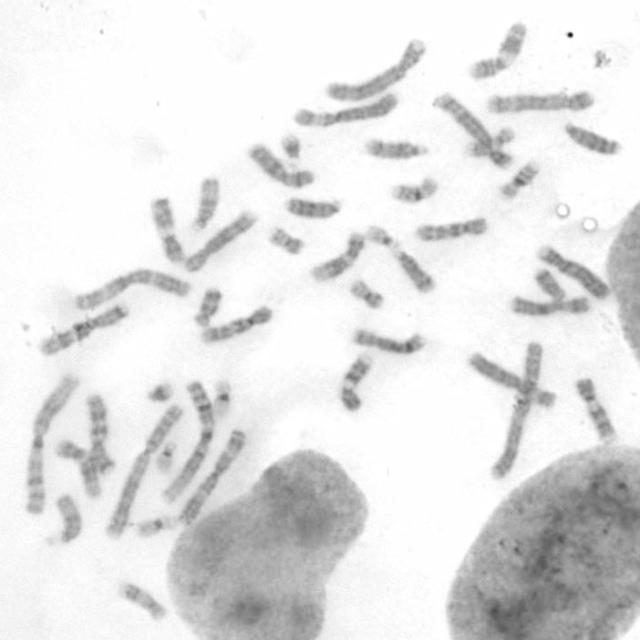A1: (19, 368, 82, 516), (156, 376, 216, 506)
A2: (101, 399, 185, 540), (483, 336, 544, 482)
A3: (177, 425, 247, 524), (69, 262, 195, 312)
B4: (322, 34, 428, 102), (532, 240, 612, 301)
B5: (430, 87, 516, 171), (482, 85, 597, 116)
C10: (196, 301, 276, 346), (411, 213, 490, 244)
C11: (463, 17, 530, 82), (147, 192, 186, 266)
C12: (306, 227, 368, 284), (51, 436, 104, 499)
C6: (463, 348, 560, 410), (289, 88, 399, 128)
C7: (35, 298, 131, 357), (82, 388, 118, 476)
C8: (180, 206, 260, 273), (348, 325, 426, 355)
C9: (571, 373, 620, 443), (334, 349, 374, 413)
D13: (559, 118, 623, 157), (280, 192, 344, 221)
D14: (390, 245, 436, 295), (359, 134, 432, 162)
D15: (186, 172, 222, 234), (48, 489, 85, 547)
E16: (495, 156, 541, 203), (386, 171, 441, 204)
E17: (114, 576, 170, 624), (463, 123, 517, 159)
E18: (191, 284, 224, 328), (530, 264, 568, 302)
F19: (131, 510, 178, 539), (208, 374, 234, 420)
F20: (264, 222, 306, 258), (344, 276, 386, 311)
G21: (275, 129, 304, 166), (141, 377, 176, 404)
G22: (150, 435, 180, 475), (362, 220, 401, 250)
X: (244, 138, 318, 190), (507, 292, 592, 318)
